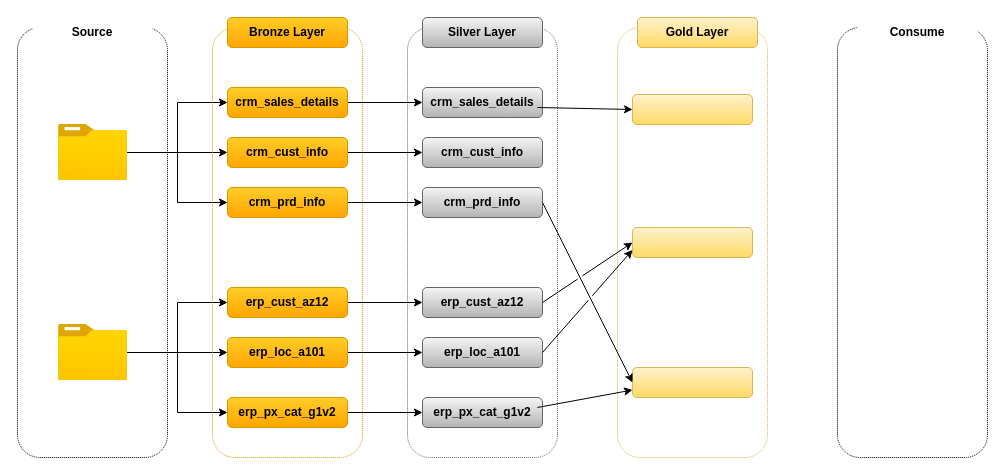
Image size: 1005x475. Some labels were removed from this diagram. The shapes that lost their labels are listed below. From the top down, each one's centre as x and y in pixels, then its label:
(692,109): fact_sales
(92,152): CRM
(692,242): dim_customers
(92,352): ERP
(692,382): dim_product
